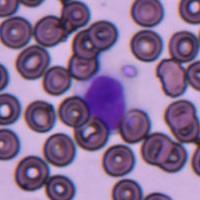L: (84, 71, 129, 131)
